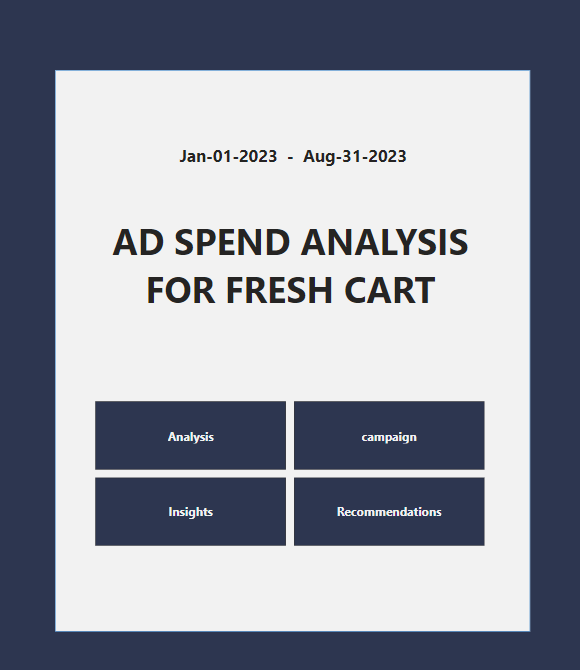

The page's visual inventory and layout, read from the dashboard file:
{"tool":"powerbi","page":{"name":"Home","canvas":[1300,1500],"ordinal":0},"visuals":[{"type":"shape","box":[128,160,1056,1248],"z":0},{"type":"textbox","box":[170,480,960,256],"z":1000},{"type":"textbox","box":[320,320,672,96],"z":2000},{"type":"pageNavigator","box":[218,896,864,320],"z":3000}]}

Visuals, with their boxes in screenshot pixels (x1, y1, x2, y2), scaled from the page's 1300x1500 canvas onto the 580x670 screenshot:
shape: bbox=[57, 71, 528, 629]
textbox: bbox=[76, 214, 504, 329]
textbox: bbox=[143, 143, 443, 186]
pageNavigator: bbox=[97, 400, 483, 543]
